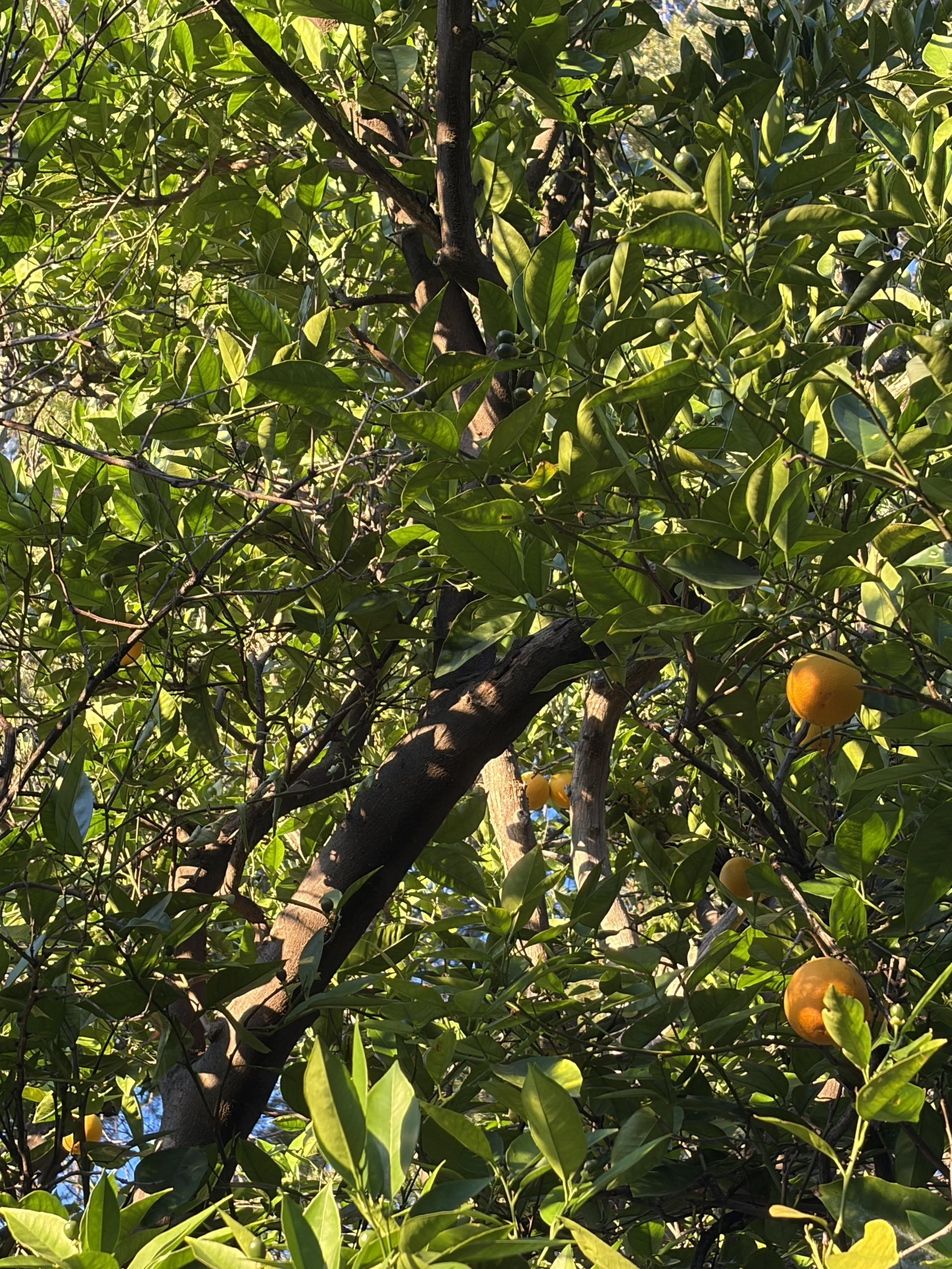orange: (784, 957, 871, 1045), (786, 651, 862, 727), (796, 719, 841, 755), (62, 1114, 102, 1154), (719, 857, 756, 899), (117, 612, 145, 666), (521, 771, 549, 811), (548, 769, 574, 809)
